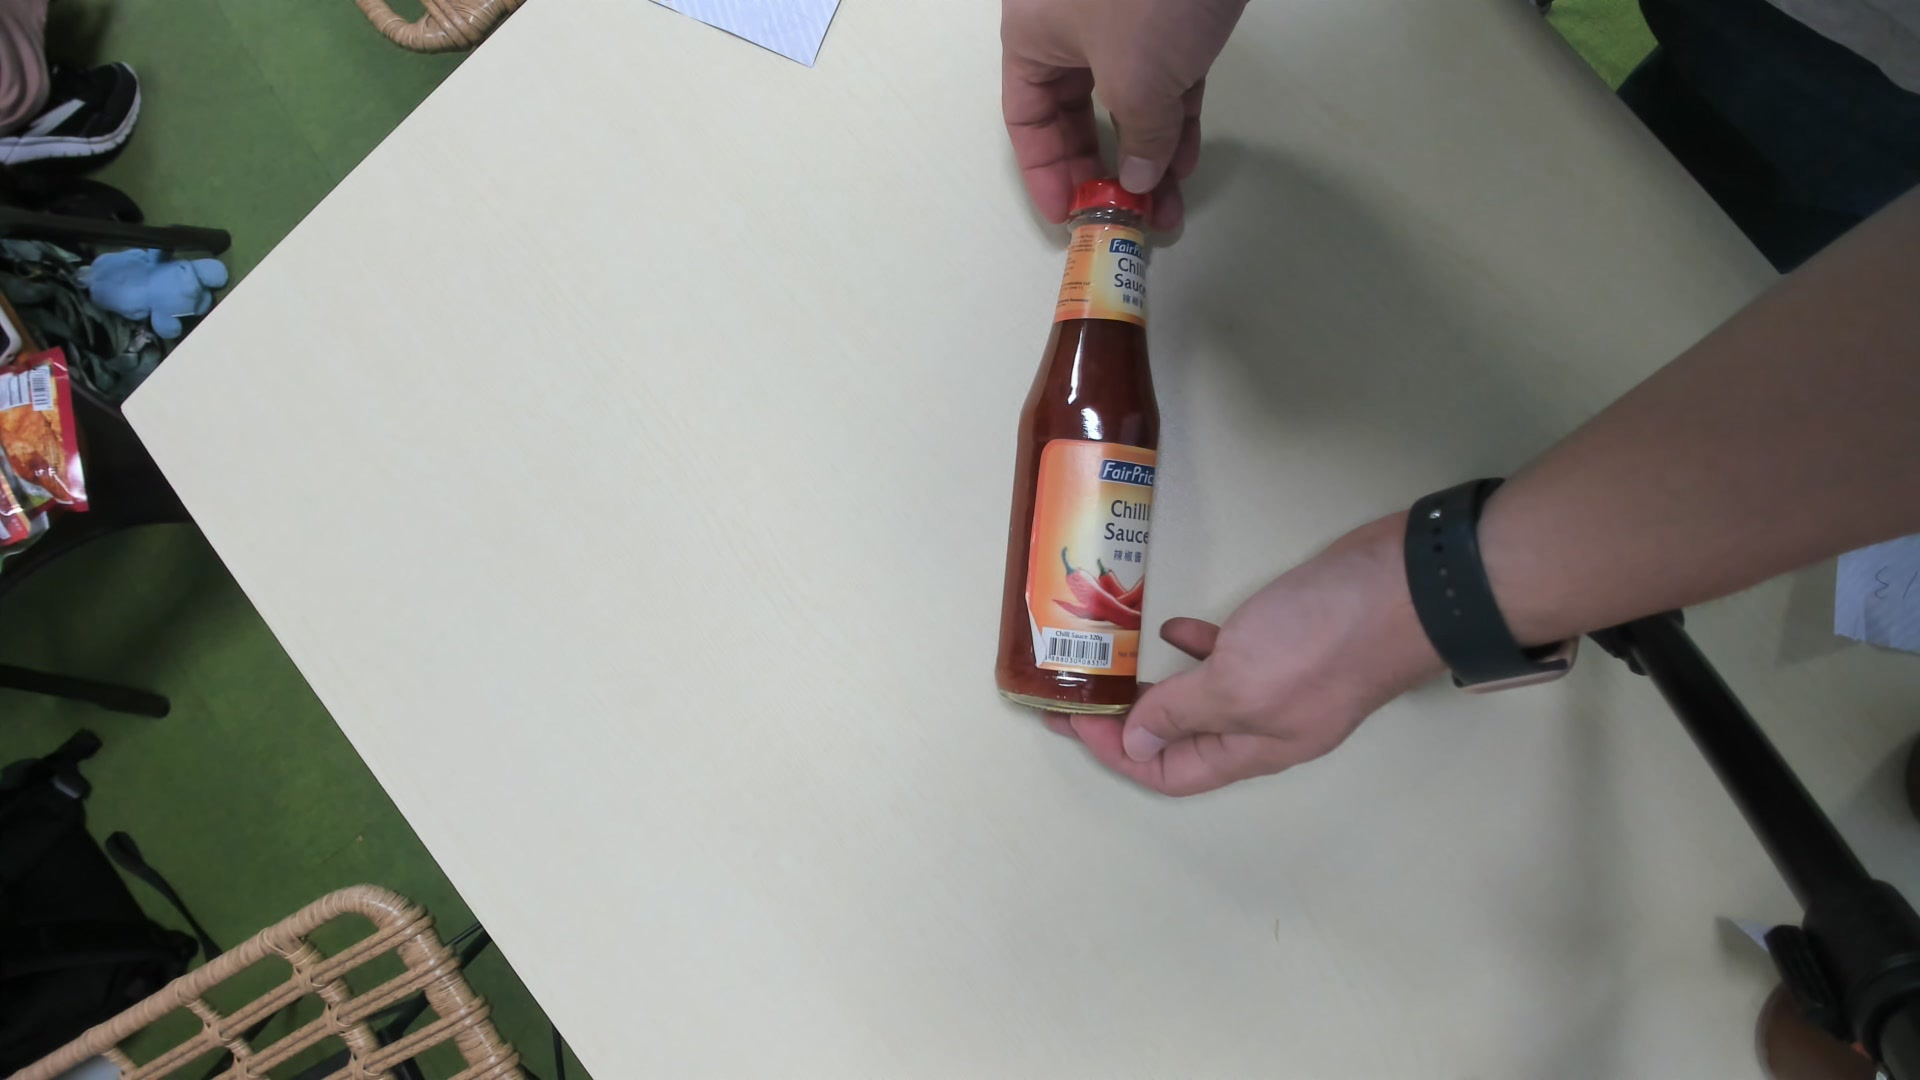KetchupChillSauce_300-399g_Halal_NonHealthy: (994, 175, 1168, 716)
